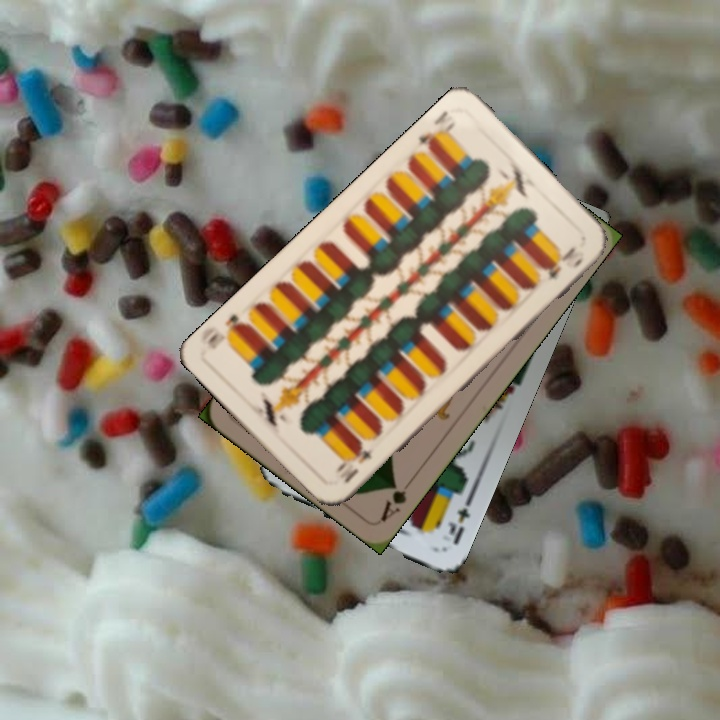E10: (413, 106, 458, 154), (339, 439, 378, 486)
EK: (444, 495, 475, 548)
GA: (377, 478, 409, 524)
